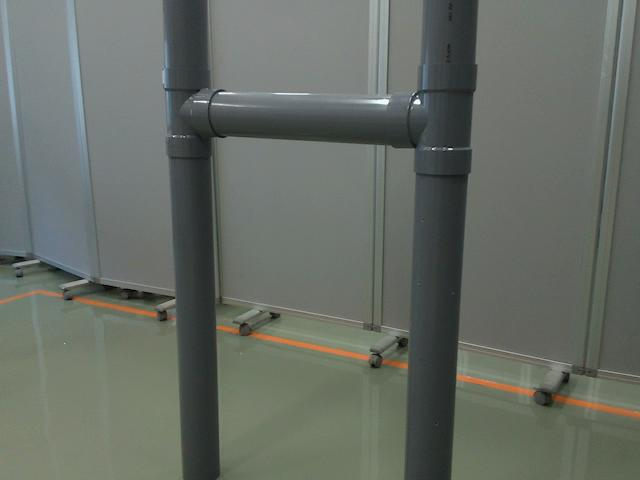junction: (390, 60, 478, 172), (157, 64, 230, 164)
